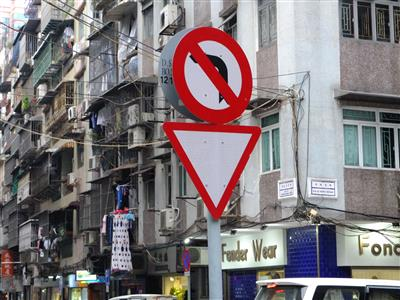noLeftTurn: (160, 25, 254, 124)
yield: (159, 119, 263, 222)
